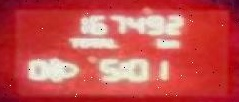0: (125, 56, 149, 82), (23, 56, 47, 81)
1: (154, 56, 170, 81), (73, 14, 87, 34)
2: (162, 12, 182, 35)
4: (125, 12, 144, 35)
5: (95, 56, 119, 81)
6: (87, 12, 105, 35)
7: (105, 12, 125, 35)
9: (142, 12, 163, 35)
X: (164, 39, 179, 49), (65, 35, 77, 47), (105, 36, 117, 47), (152, 35, 163, 47), (119, 60, 125, 79), (77, 36, 87, 47), (87, 36, 97, 47), (97, 36, 105, 47)
